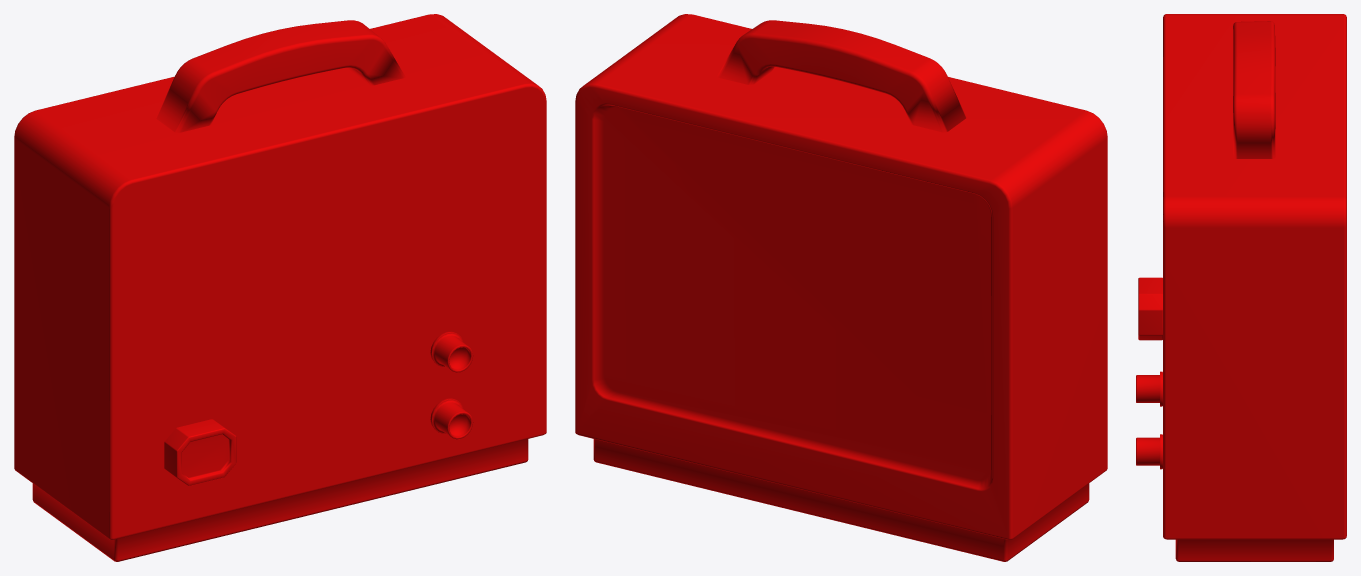
Rendered from Equipment_29.fbx.
3 renders of one model, left to right at view 1: azimuth 30°, elevation 25°; view 2: azimuth 150°, elevation 25°; view 3: azimuth 270°, elevation 25°, orthographic. The views are drawn at different scales.
Parts seen in each view (by area): view 1: L11:pCube263; view 2: L11:pCube263; view 3: L11:pCube263.
Boxes of the visible parts, x1,y1,x2,y2 form: L11:pCube263: (14, 14, 546, 561); L11:pCube263: (575, 14, 1107, 561); L11:pCube263: (1136, 14, 1346, 561).
Size of the model in its own units: 26.18 by 25.41 by 11.62.
